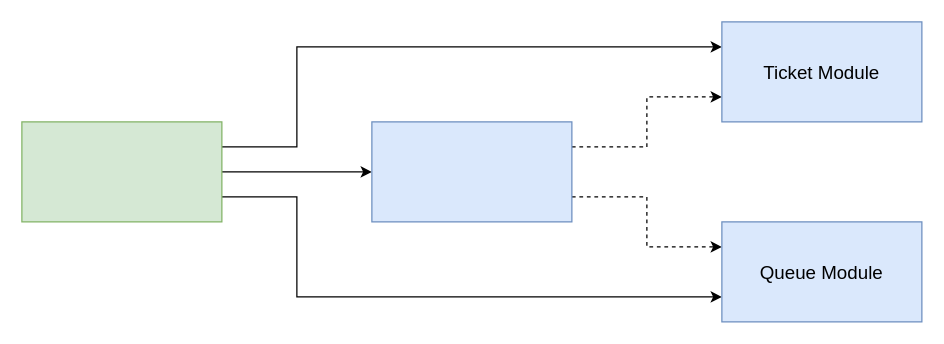
This 944x344 diagram has some shape labels left out. The shapes that lost their labels are listed below. From the top down, each one's centre as x and y in pixels, then its label:
the point at 121,171: Database Connection
the point at 471,171: Store Module
